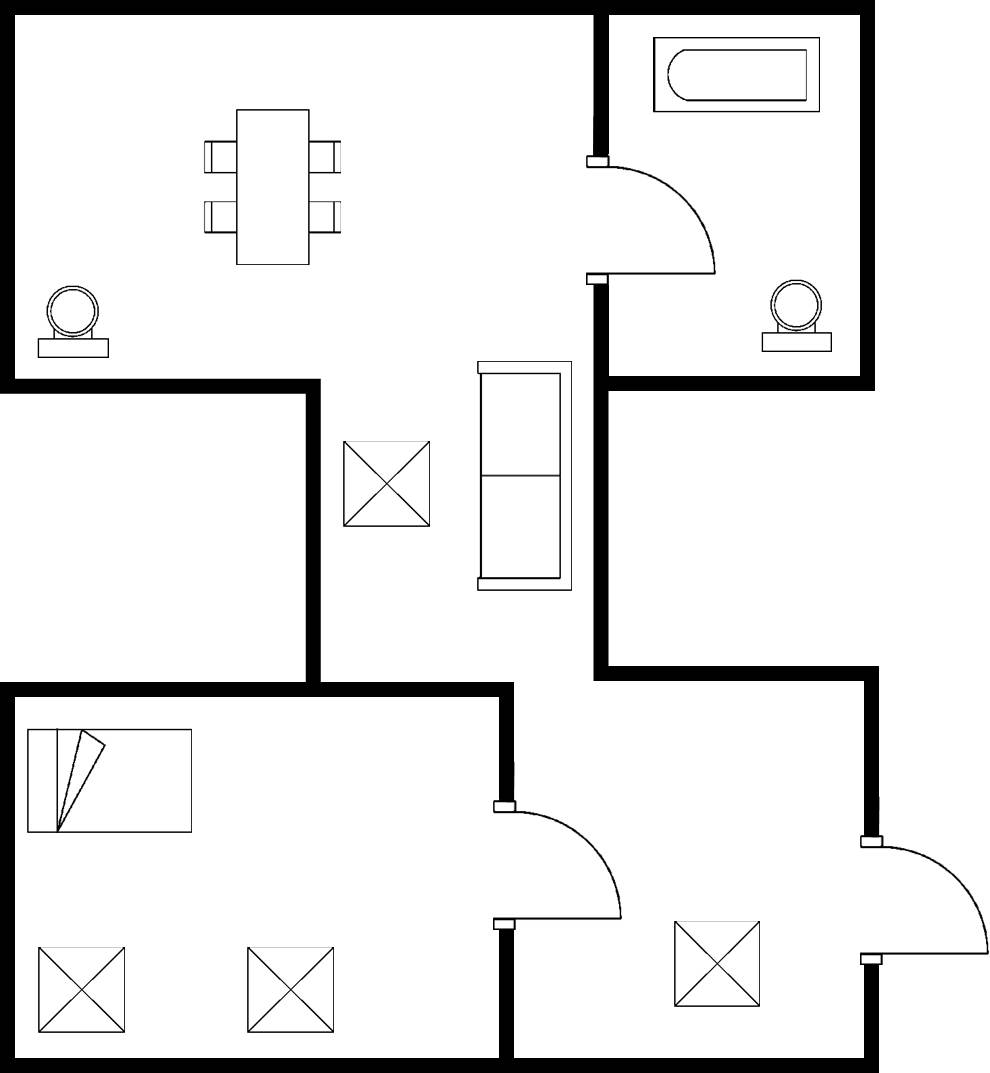bed: (19, 722, 204, 843)
coffee_table: (30, 940, 135, 1041), (338, 433, 439, 537), (666, 915, 769, 1012), (240, 941, 342, 1038)
dining_table: (194, 100, 353, 272)
large_sink: (753, 273, 840, 359), (32, 280, 115, 366)
large_sofa: (468, 351, 580, 603)
tub: (645, 28, 830, 121)
